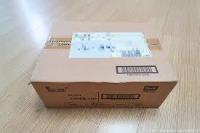undamaged: (27, 17, 179, 113)
